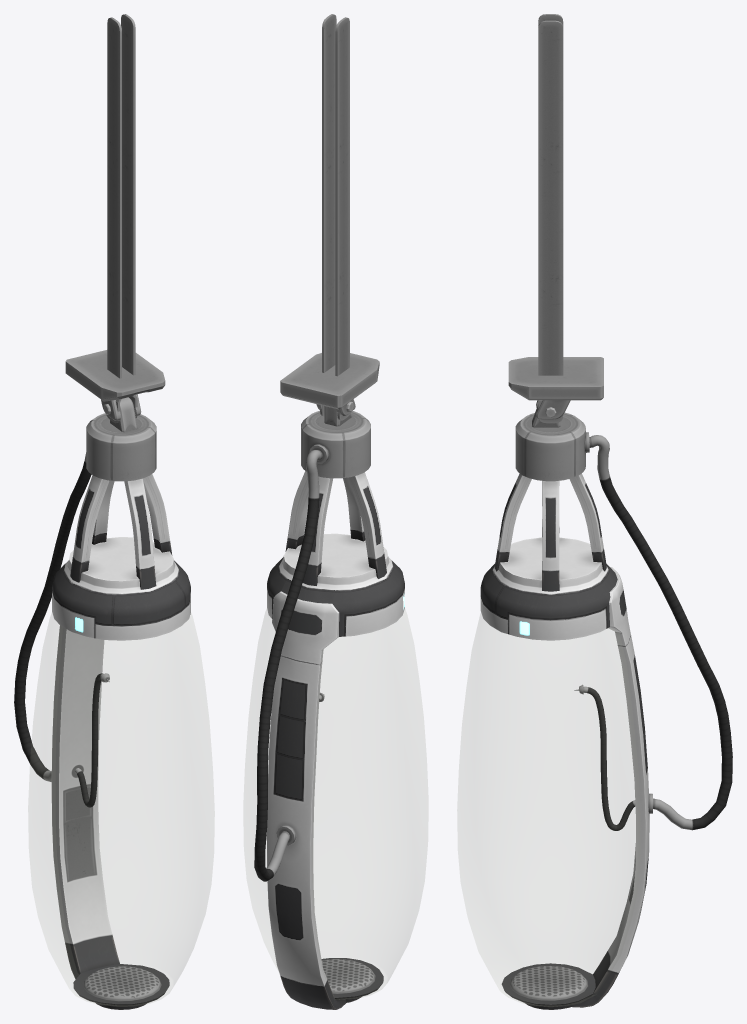
File: LabCapsule06.FBX
The picture shows the model from 3 angles, left to right: view 1: azimuth 30°, elevation 25°; view 2: azimuth 150°, elevation 25°; view 3: azimuth 270°, elevation 25°; orthographic projection.
Visible parts, largest first — view 1: LabCapsule06, Glass, Extender, Base; view 2: LabCapsule06, Glass, Extender, Base; view 3: Glass, LabCapsule06, Extender, Base.
Boxes of the visible parts, box(x1,y1,x2,y2) form: LabCapsule06: box(14, 397, 190, 1009); Glass: box(28, 614, 214, 1006); Extender: box(106, 14, 137, 423); Base: box(65, 350, 165, 420); LabCapsule06: box(254, 406, 404, 1009); Glass: box(244, 610, 427, 999); Extender: box(320, 14, 350, 420); Base: box(280, 353, 379, 415); Glass: box(457, 614, 635, 1006); LabCapsule06: box(480, 404, 732, 1009); Extender: box(538, 14, 563, 423); Base: box(508, 357, 603, 419).
Size of what is drawn, in the model's own units: 1.04 by 6.01 by 1.53.
